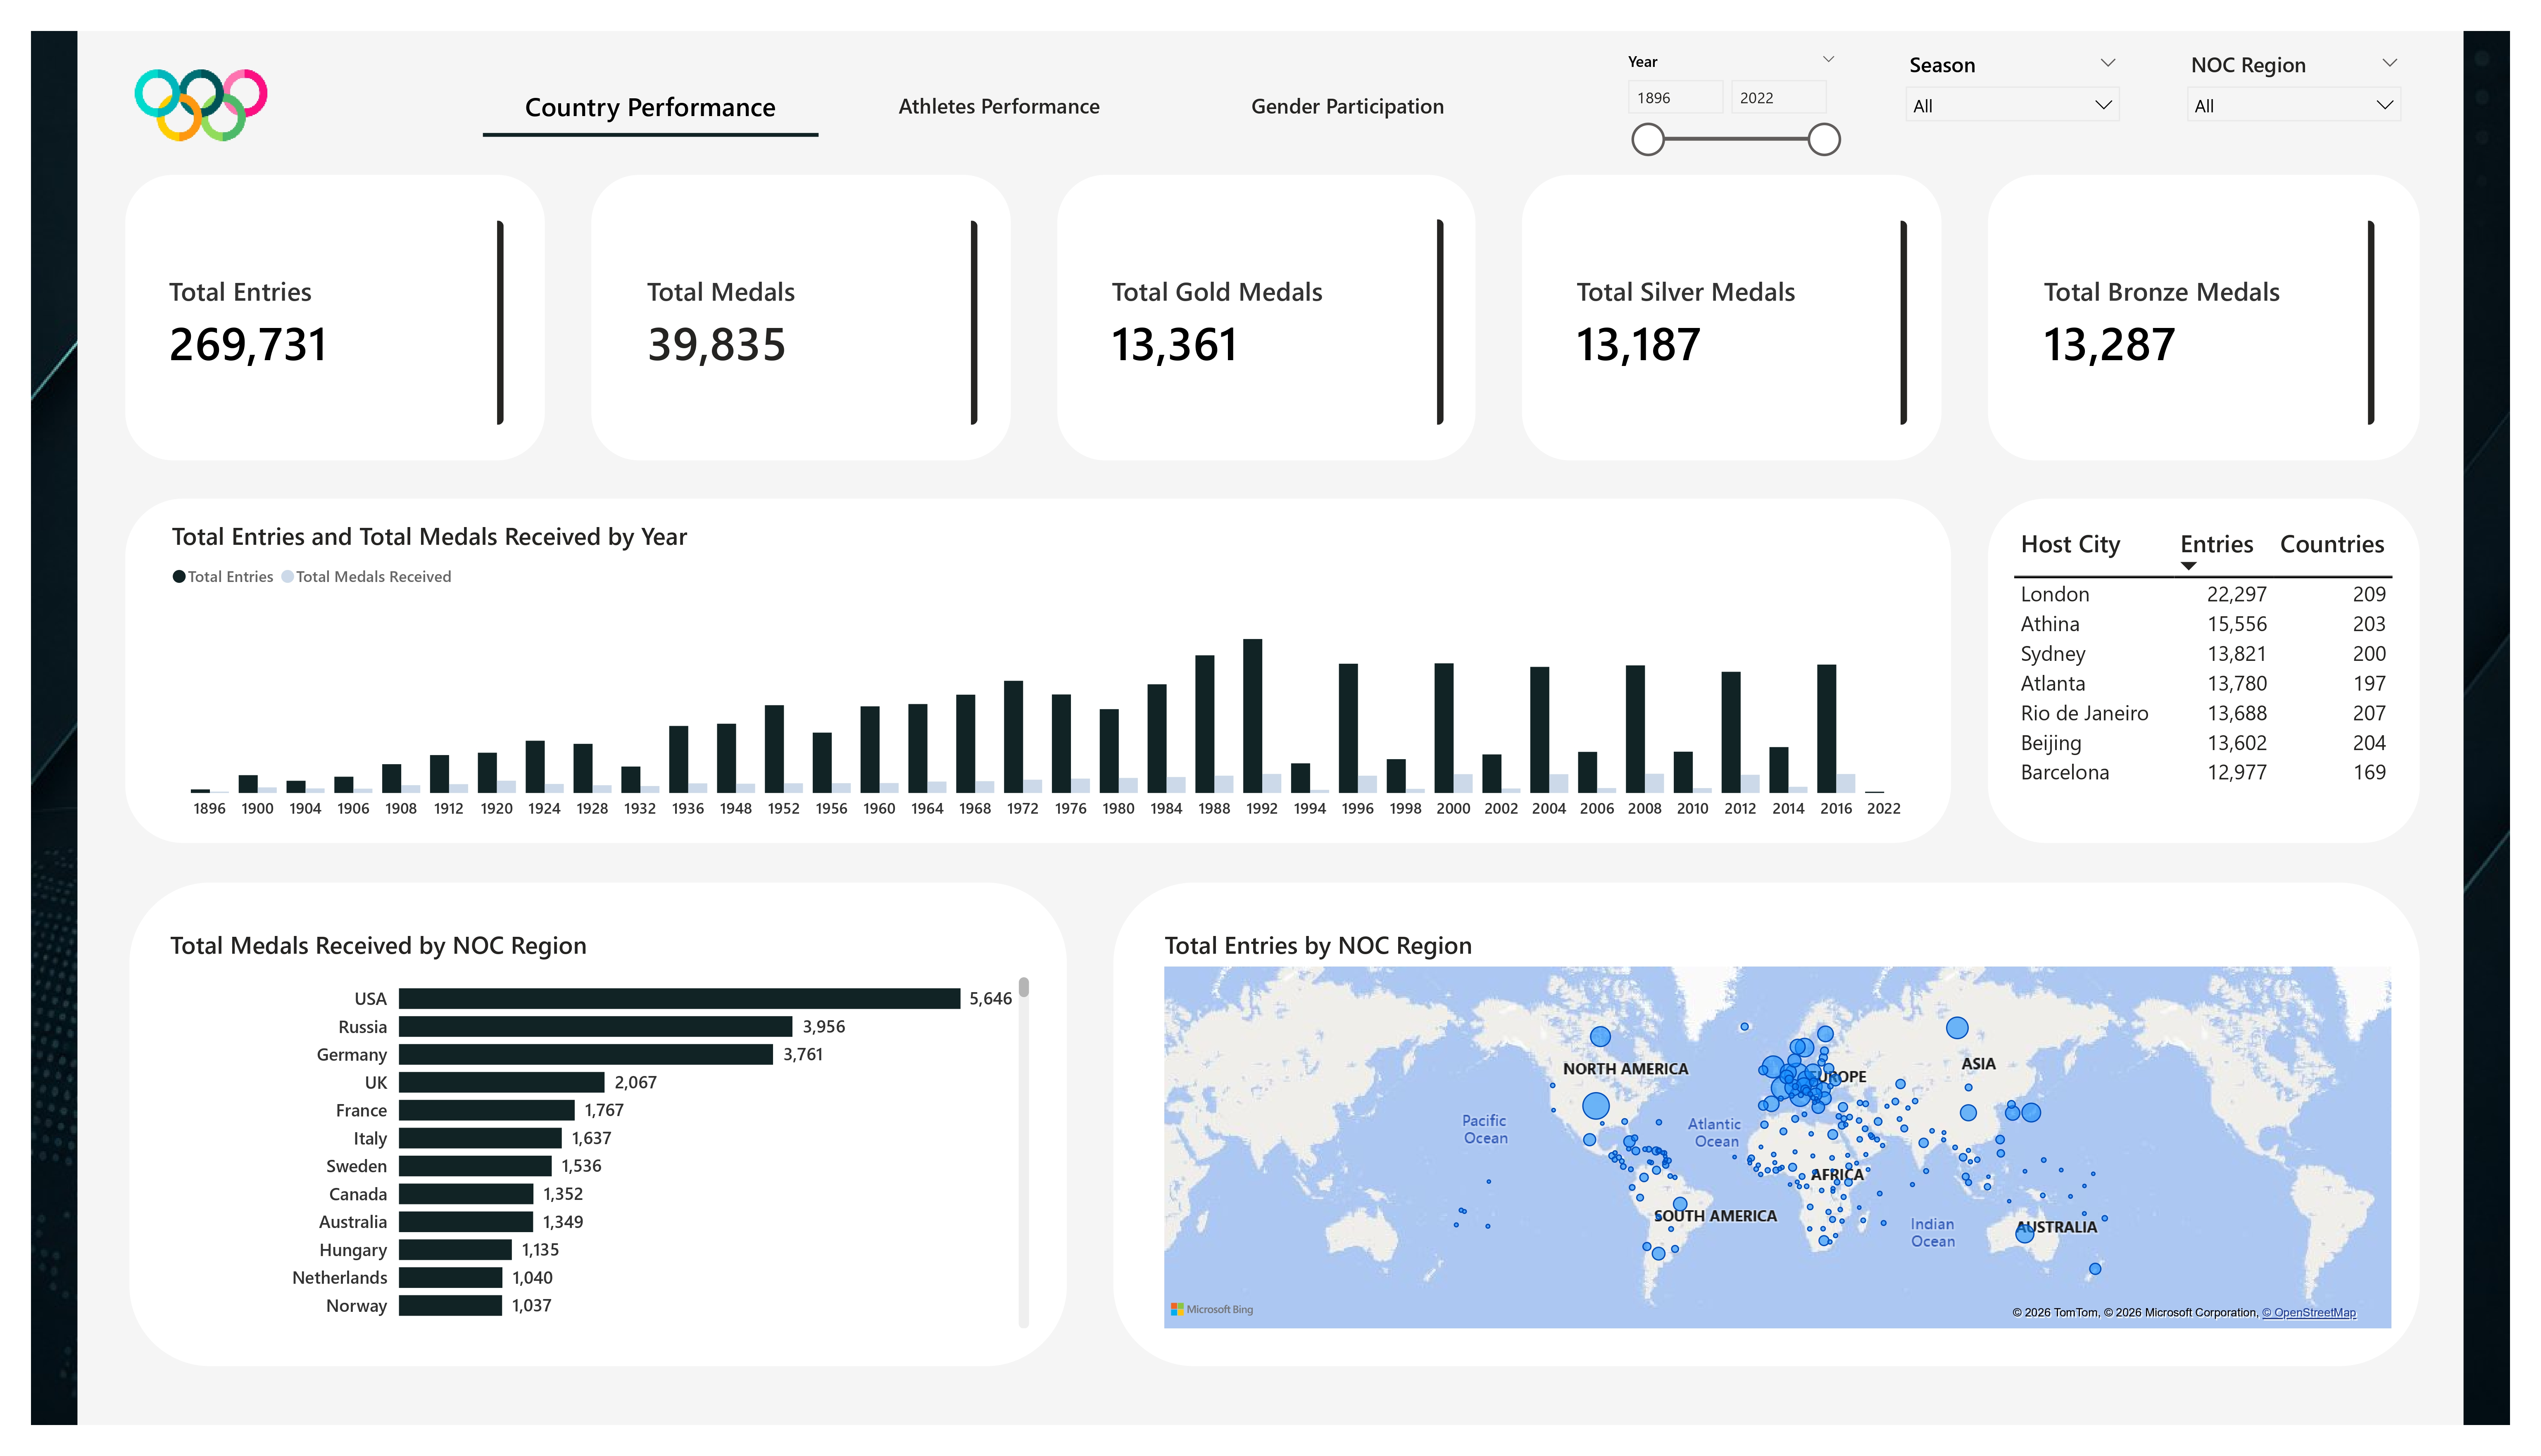

This screenshot's page, from the dashboard's own definition file:
{"tool":"powerbi","page":{"name":"Country Performance","canvas":[1920,1080],"ordinal":0},"visuals":[{"type":"cardVisual","fields":{"Data":["DaxMeasures.Totall Entries"]},"box":[77.5,130,305,192.5],"z":0},{"type":"cardVisual","fields":{"Data":["DaxMeasures.Total Medals Received"]},"box":[447.5,130,302.5,192.5],"z":1000},{"type":"cardVisual","fields":{"Data":["DaxMeasures.Total Gold Medals Received"]},"box":[808.5,129.2,303.1,193.8],"z":2000},{"type":"cardVisual","fields":{"Data":["DaxMeasures.Total Bronze Medals Received"]},"box":[1530,130,302.5,192.5],"z":3000},{"type":"clusteredColumnChart","fields":{"Y":["DaxMeasures.Total Entries","DaxMeasures.Total Medals Received"],"Category":["FactAthleteRecord.Year"]},"box":[104,378,1366,242],"z":4000},{"type":"tableEx","fields":{"Values":["DimHostCity.Host_City","DaxMeasures.Total Entries","DaxMeasures.Total Countries"]},"box":[1530,378.3,315,241.7],"z":5000},{"type":"map","fields":{"Size":["DaxMeasures.Total Entries"],"Category":["DimNocRegion.region"]},"box":[872.5,695,960,315],"z":6000},{"type":"clusteredBarChart","fields":{"Category":["DimNocRegion.region"],"Y":["DaxMeasures.Total Medals Received"]},"box":[102.5,695,675,315],"z":7000},{"type":"slicer","fields":{"Values":["FactAthleteRecord.Year"]},"box":[1224,10,186,90],"z":8000},{"type":"slicer","fields":{"Values":["DimSeason.Season"]},"box":[1442,10,186,90],"z":9000},{"type":"slicer","fields":{"Values":["DimNocRegion.region"]},"box":[1660,10,186,90],"z":10000},{"type":"pageNavigator","box":[350,32,800,50],"z":11000},{"type":"cardVisual","fields":{"Data":["DaxMeasures.Total Silver Medals Received"]},"box":[1167.5,130,302.5,192.5],"z":12000}]}

Visuals, with their boxes on the page's 1920x1080 design canvas (x1, y1, x2, y2). These are canvas units, not pixel positions in the 2541x1456 screenshot, which may show the page scaled, cropped or inside an application window:
cardVisual - DaxMeasures.Totall Entries: 78:130:382:322
cardVisual - DaxMeasures.Total Medals Received: 448:130:750:322
cardVisual - DaxMeasures.Total Gold Medals Received: 808:129:1112:323
cardVisual - DaxMeasures.Total Bronze Medals Received: 1530:130:1832:322
clusteredColumnChart - DaxMeasures.Total Entries x DaxMeasures.Total Medals Received: 104:378:1470:620
tableEx - DimHostCity.Host_City x DaxMeasures.Total Entries: 1530:378:1845:620
map - DaxMeasures.Total Entries x DimNocRegion.region: 872:695:1832:1010
clusteredBarChart - DimNocRegion.region x DaxMeasures.Total Medals Received: 102:695:778:1010
slicer - FactAthleteRecord.Year: 1224:10:1410:100
slicer - DimSeason.Season: 1442:10:1628:100
slicer - DimNocRegion.region: 1660:10:1846:100
pageNavigator: 350:32:1150:82
cardVisual - DaxMeasures.Total Silver Medals Received: 1168:130:1470:322
